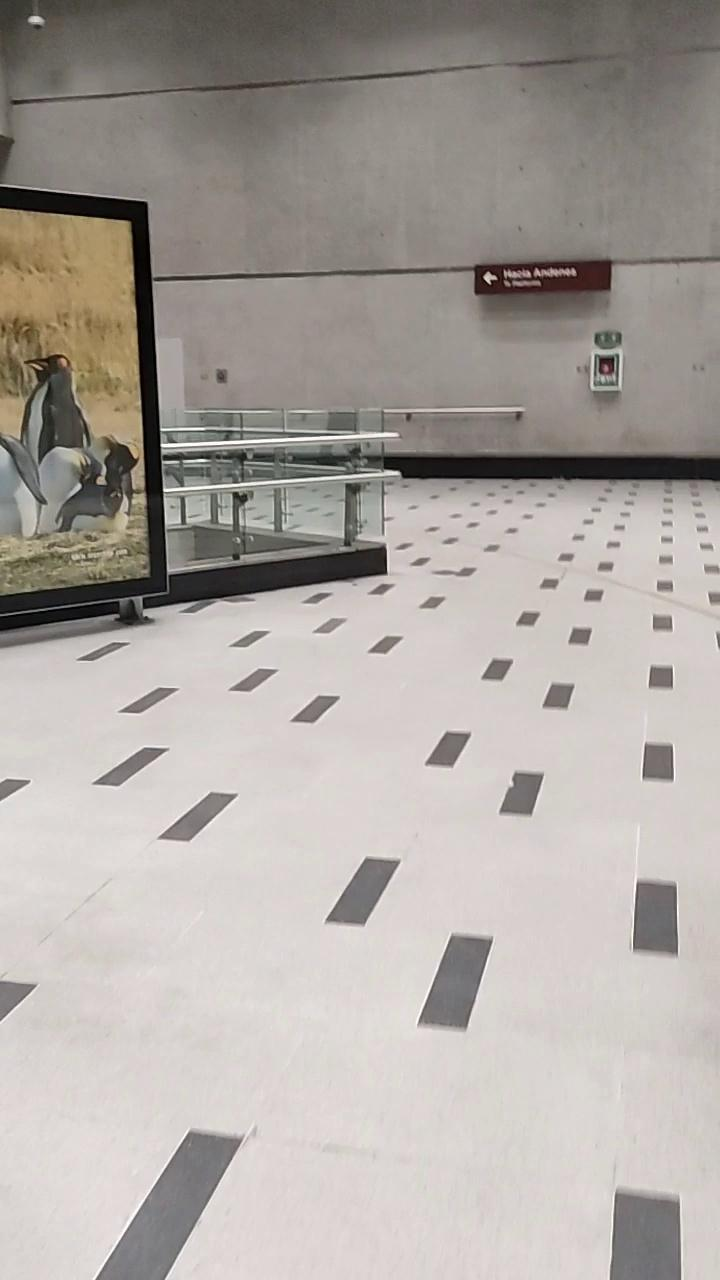left arrow: (480, 268, 501, 290)
